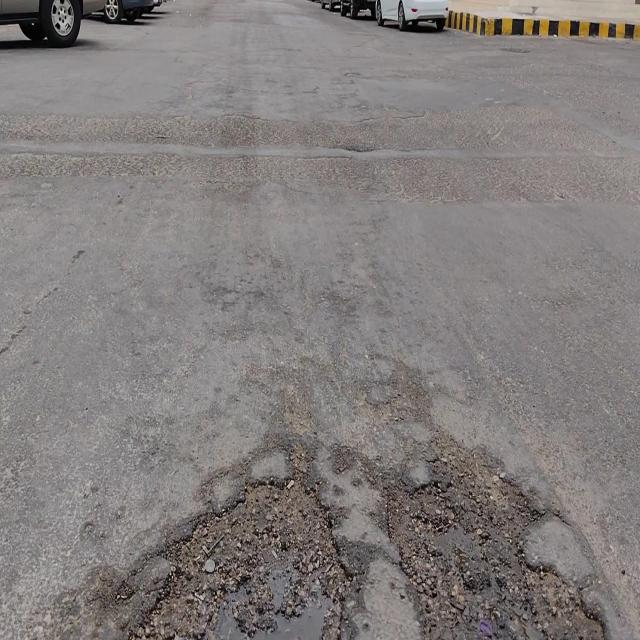Pothole: (381, 430, 610, 638), (127, 473, 358, 638)
